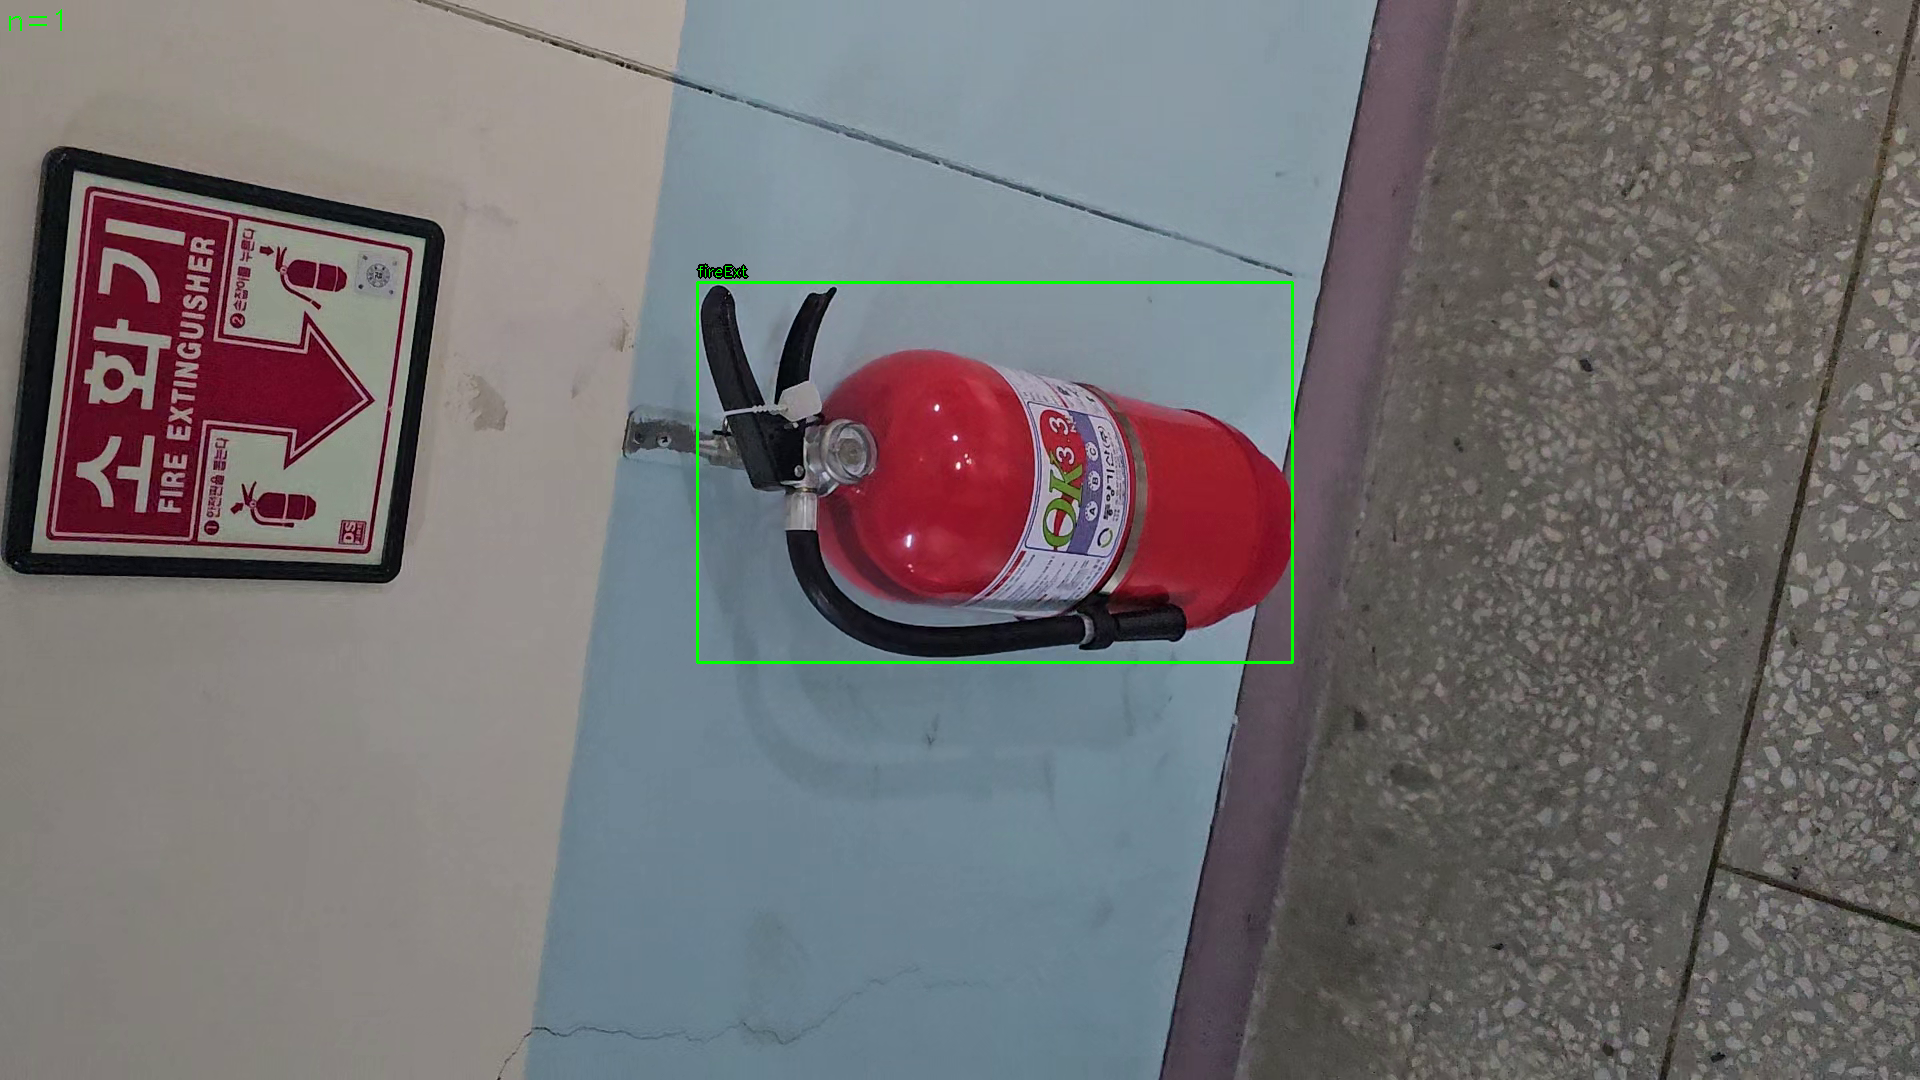lane: (698, 282, 1294, 663)
